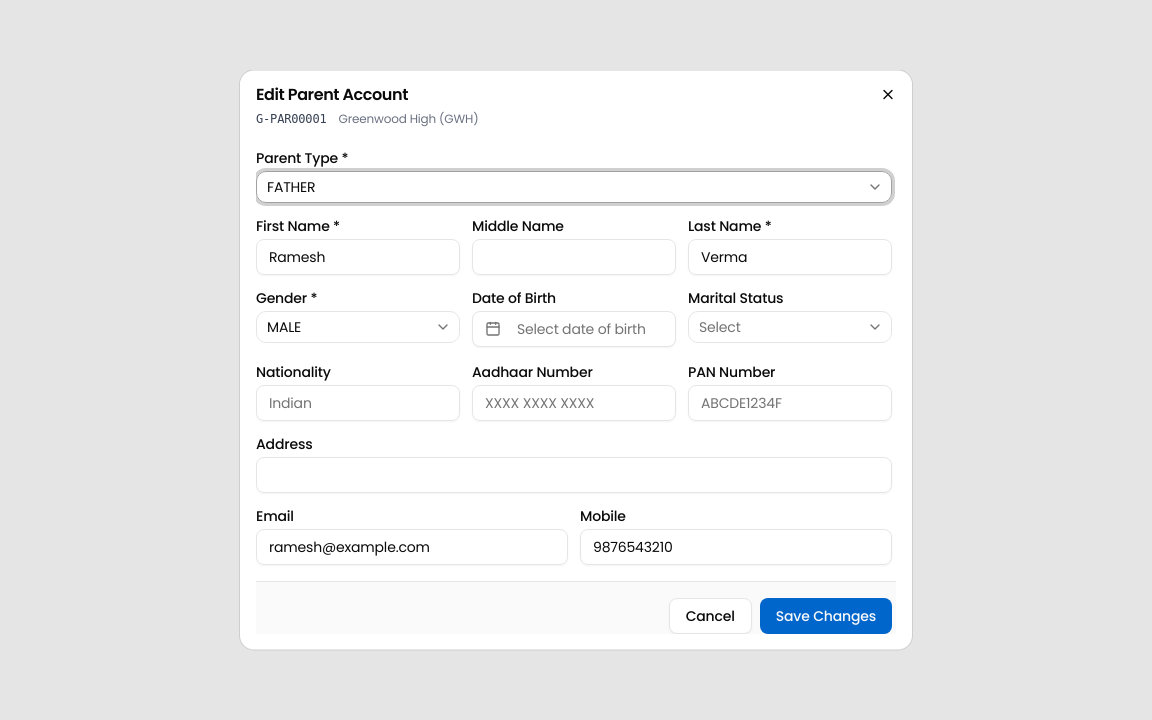
it: EditParentDialog › shows a validation error and does not submit when First Name is cleared
Step 1. Clear the field showing "Ramesh" below "First Name *" → (358, 256), box x1=256 y1=238 x2=460 y2=274
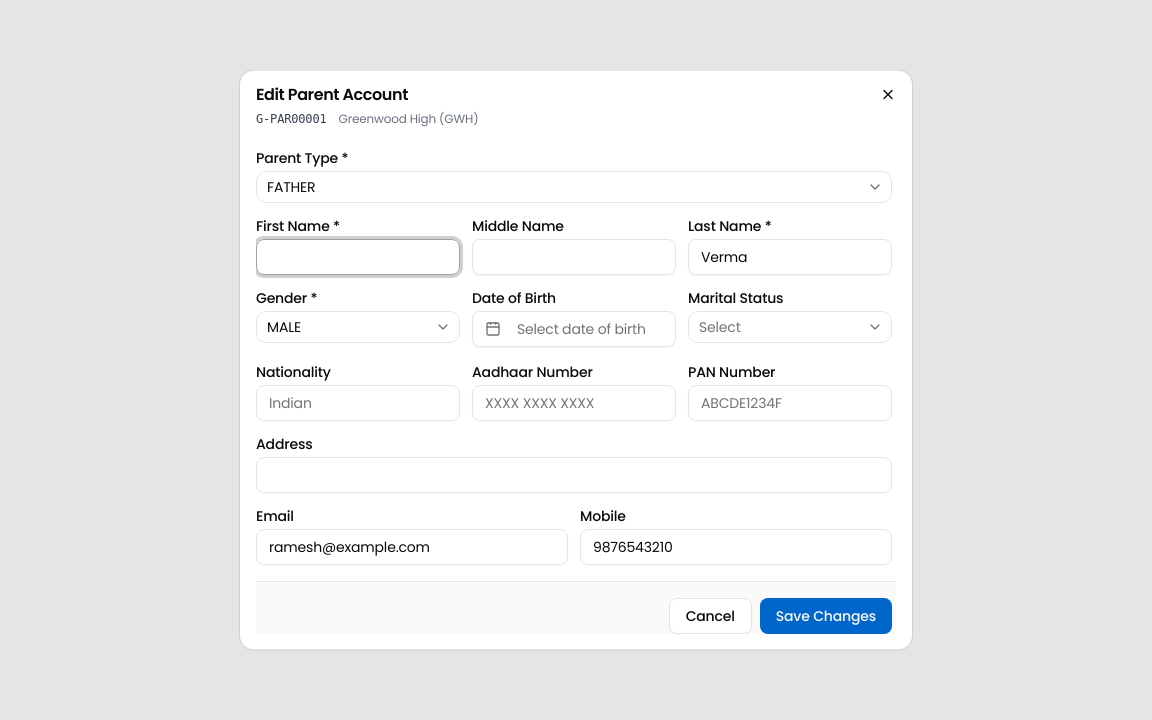
Step 2. Click the button "Save Changes" → (826, 616), box x1=760 y1=598 x2=892 y2=634
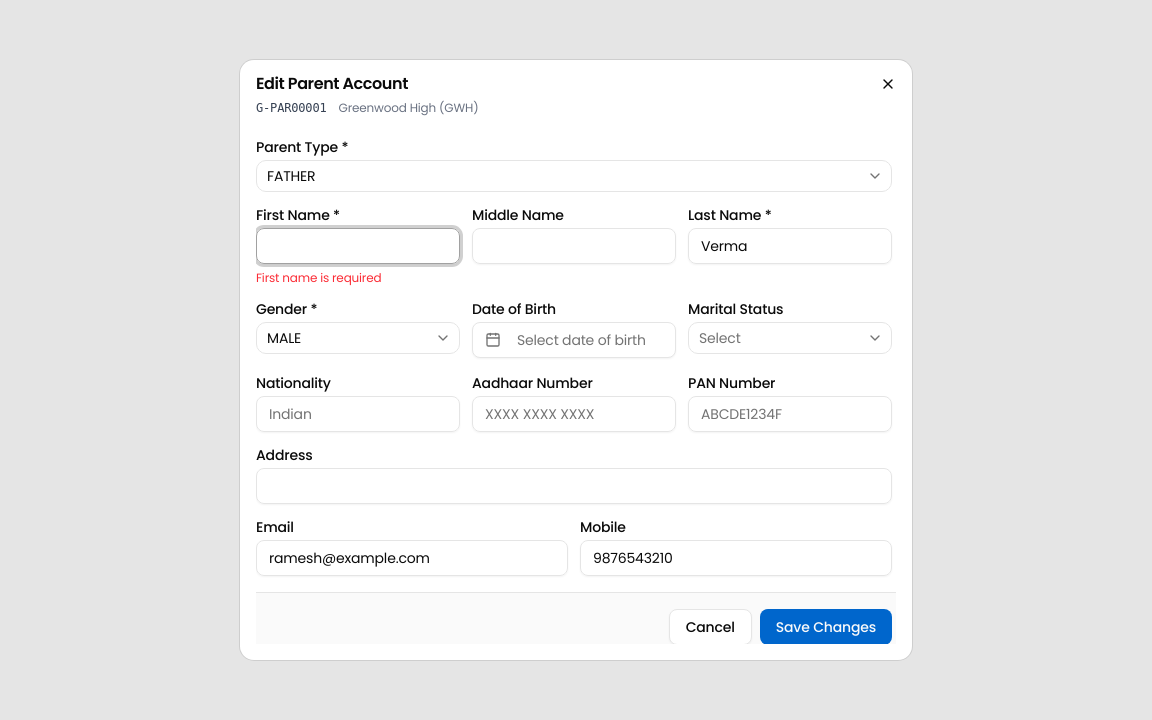
Result: the text "First name is required" is shown at x1=256 y1=269 x2=381 y2=286
